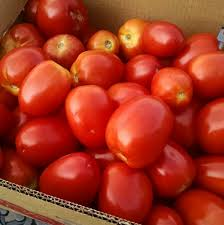tomato: (107, 95, 173, 168), (21, 59, 71, 115)
